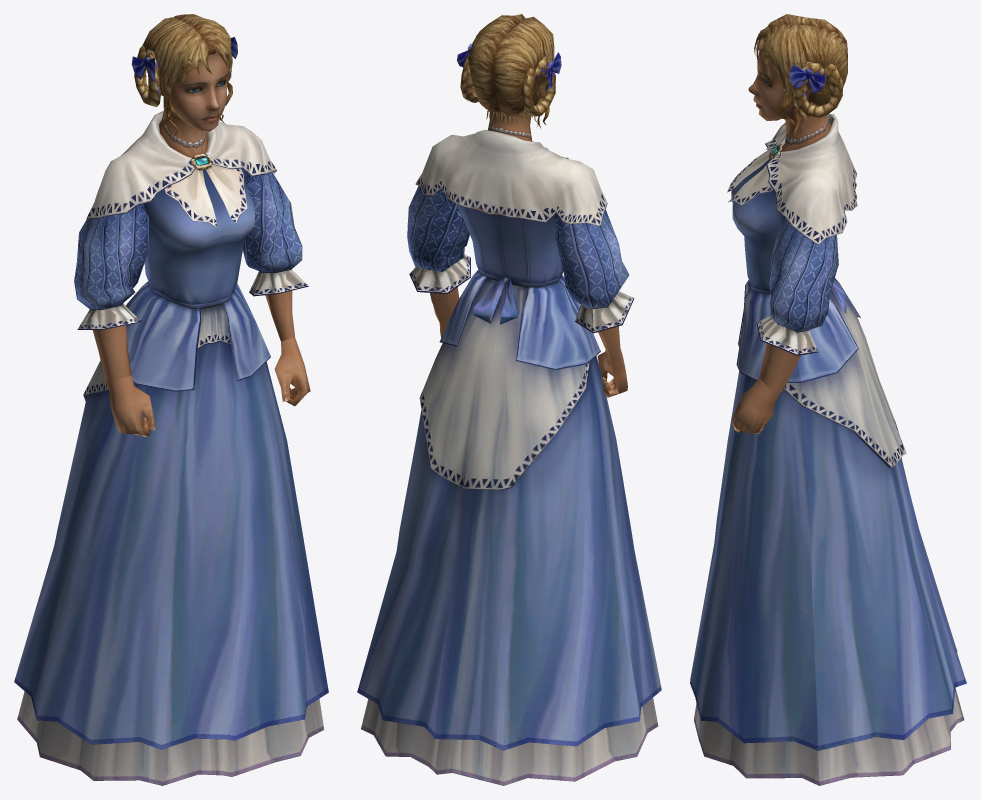
3 renders of one model, left to right at view 1: azimuth 30°, elevation 25°; view 2: azimuth 150°, elevation 25°; view 3: azimuth 270°, elevation 25°, orthographic. The views are drawn at different scales.
Visible parts, largest first — view 1: objwoman_1_Eye_left1; view 2: objwoman_1_Eye_left1; view 3: objwoman_1_Eye_left1.
Boxes of the visible parts, <box> form: objwoman_1_Eye_left1: <box>14,14,328,785</box>; objwoman_1_Eye_left1: <box>357,14,661,785</box>; objwoman_1_Eye_left1: <box>690,14,966,785</box>.
Size of the model in its own units: 6.68 by 17.07 by 6.04.
1 material, 1 textured.
